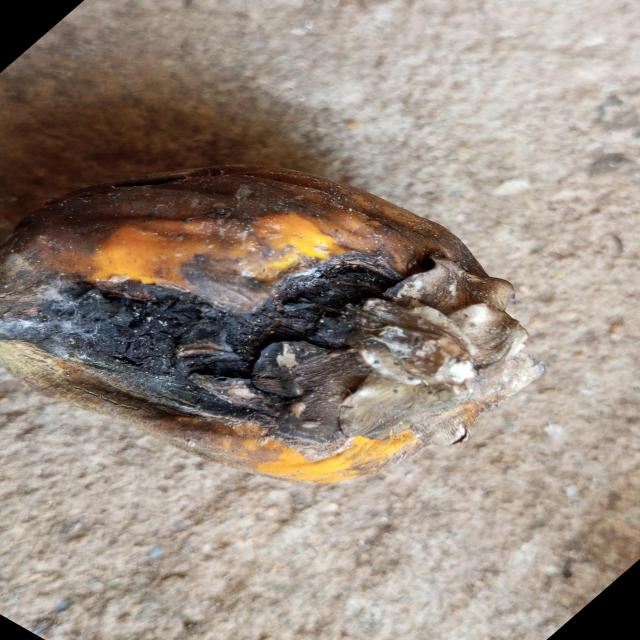damaged: (0, 162, 544, 489)
